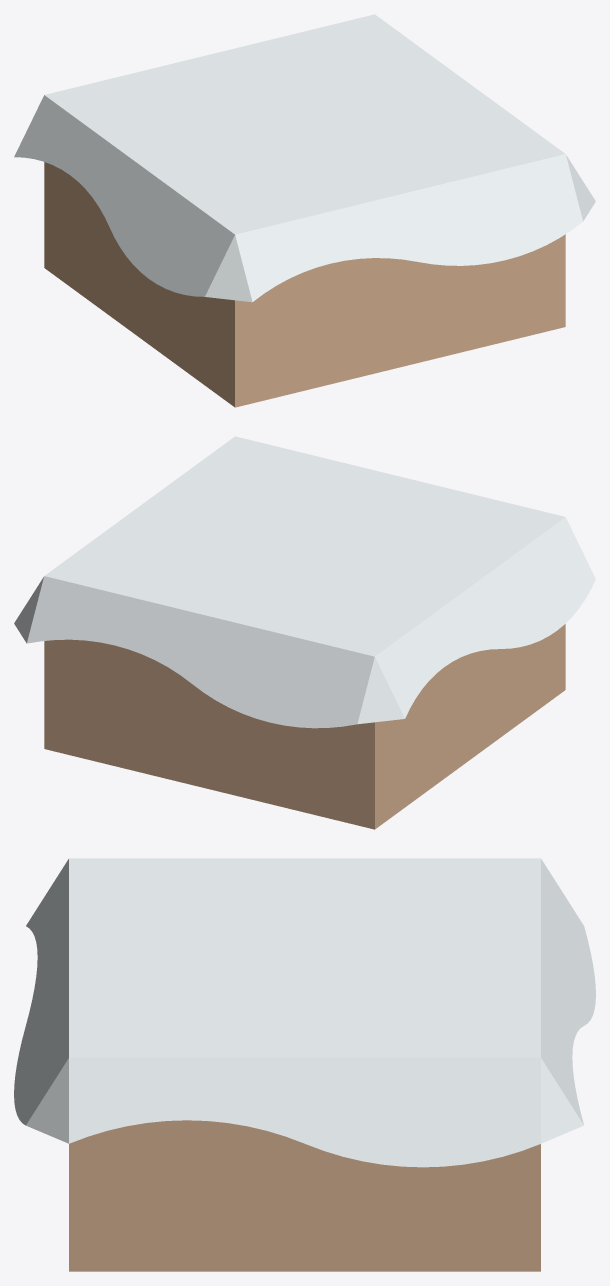
3 renders of one model, top to bottom at view 1: azimuth 30°, elevation 25°; view 2: azimuth 150°, elevation 25°; view 3: azimuth 270°, elevation 25°, orthographic. The views are drawn at different scales.
Visible parts, largest first — view 1: blockSnowHalf; view 2: blockSnowHalf; view 3: blockSnowHalf.
Part boxes in pixels (box(x1,y1,x2,y2)): blockSnowHalf: box(14, 14, 595, 407); blockSnowHalf: box(14, 436, 595, 829); blockSnowHalf: box(14, 858, 595, 1271).
Bounding box in the file's own units: 1.23 × 0.5 × 1.23.
